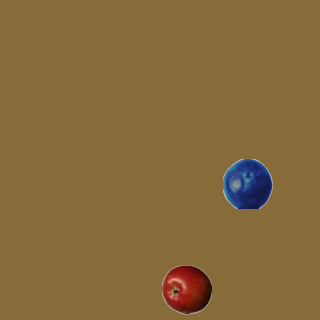Apple Braeburn: (161, 264, 211, 314)
Huckleberry: (222, 158, 272, 208)
